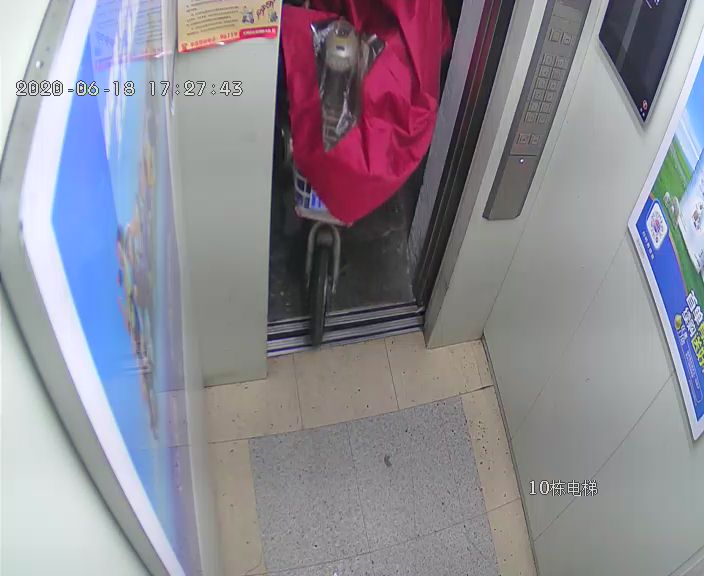Electric-bicycle: (283, 9, 436, 341)
